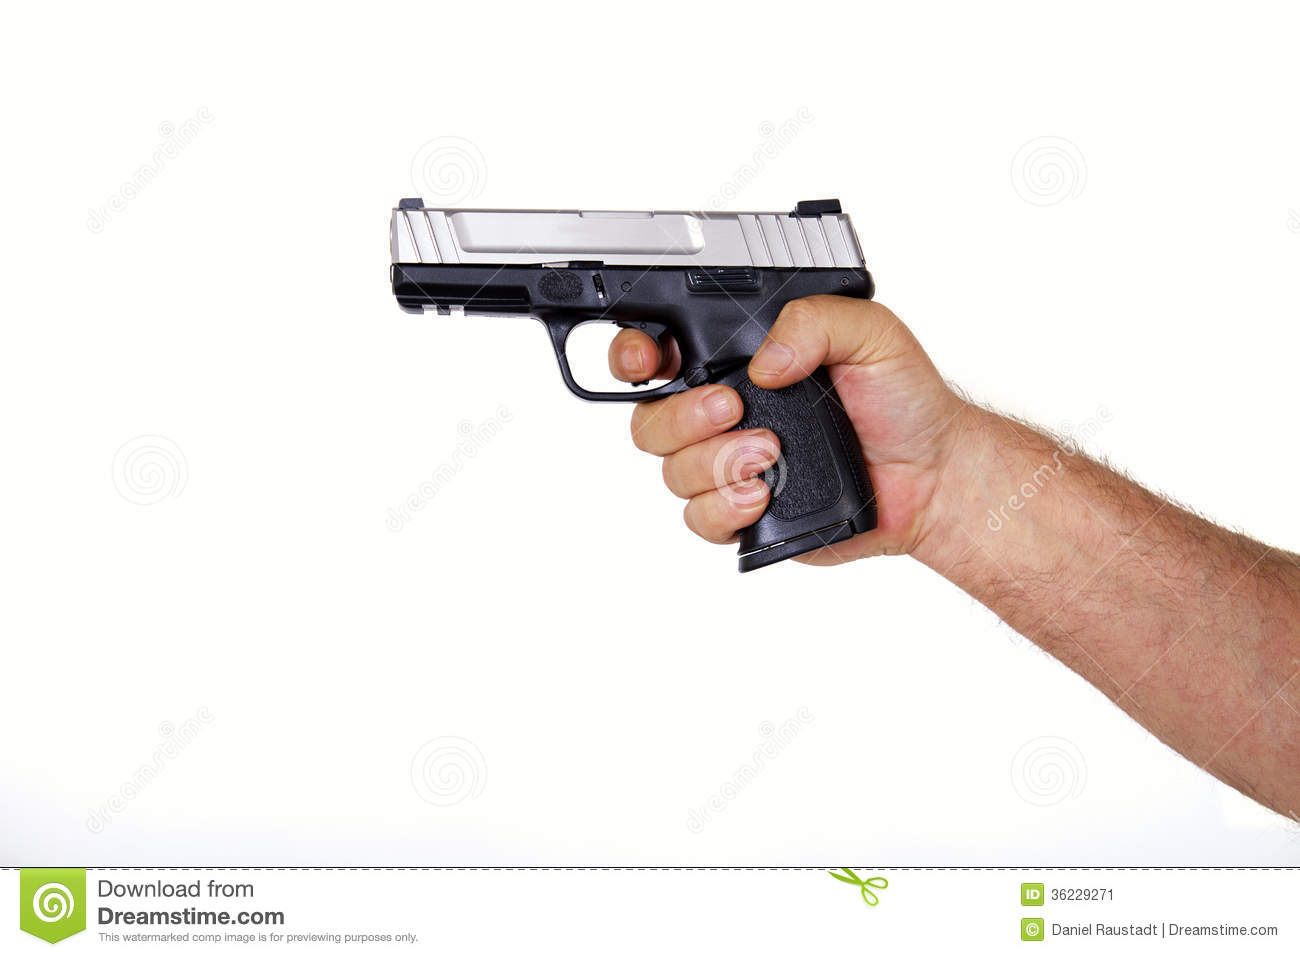pistol: (389, 194, 882, 576)
